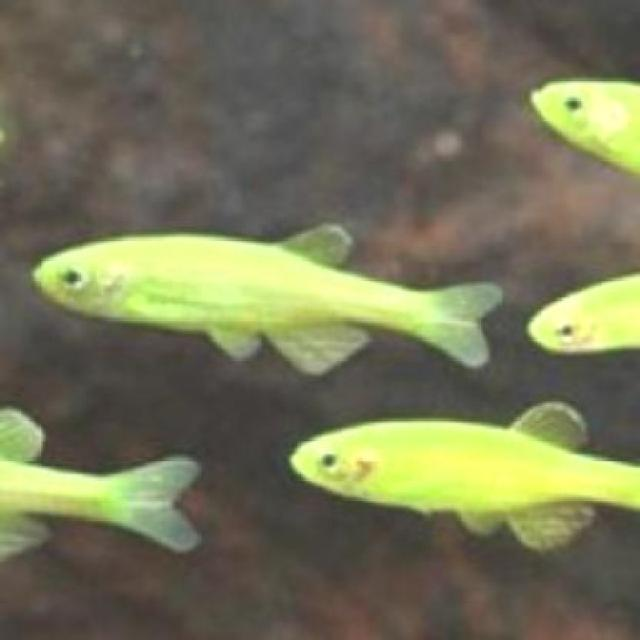ZebraFish: (30, 221, 502, 367), (290, 399, 638, 546)
